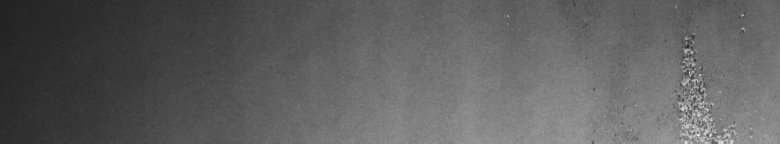hc: (583, 5, 746, 136)
